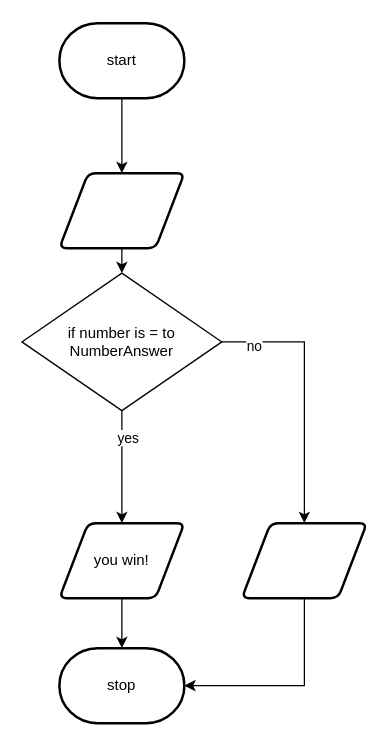
Image size: 390x745. Some labels were removed from this diagram. Each missing label, with the box of its shape:
get guessed number: (58, 171, 185, 249)
you lose :(: (240, 521, 368, 599)
